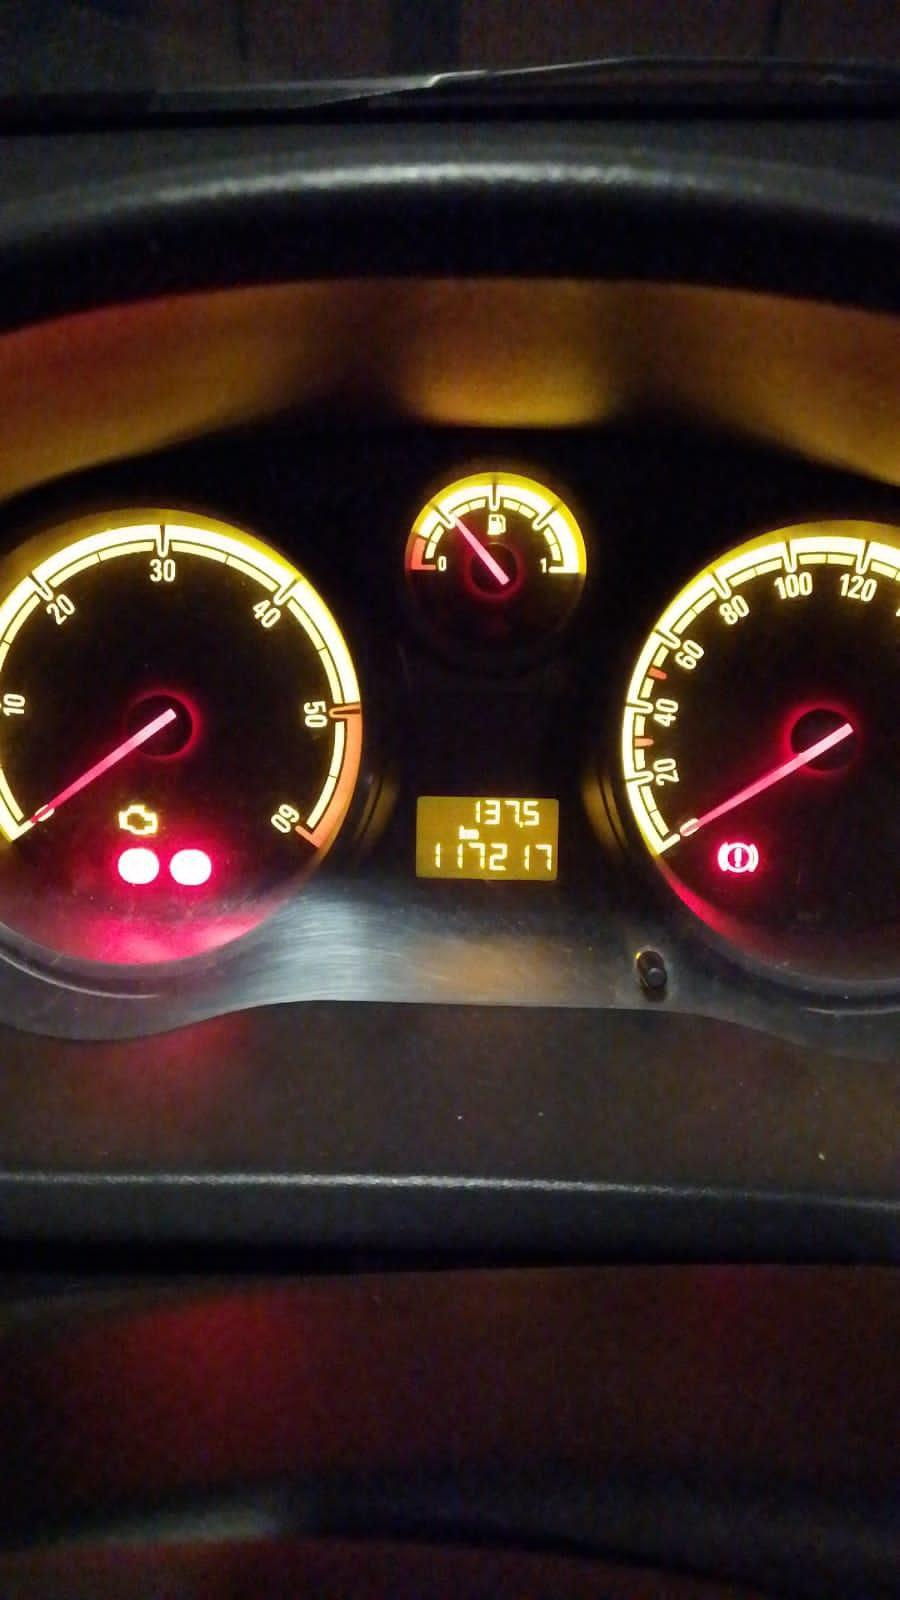,: (519, 820, 524, 827)
1: (520, 844, 531, 873), (432, 841, 442, 869), (455, 842, 465, 869), (473, 799, 482, 824)
2: (488, 841, 508, 873)
3: (484, 799, 502, 825)
5: (522, 800, 540, 826)
7: (466, 841, 486, 870), (534, 843, 552, 873), (503, 800, 520, 825)
X: (456, 824, 479, 840)
odometer: (412, 792, 562, 884)
